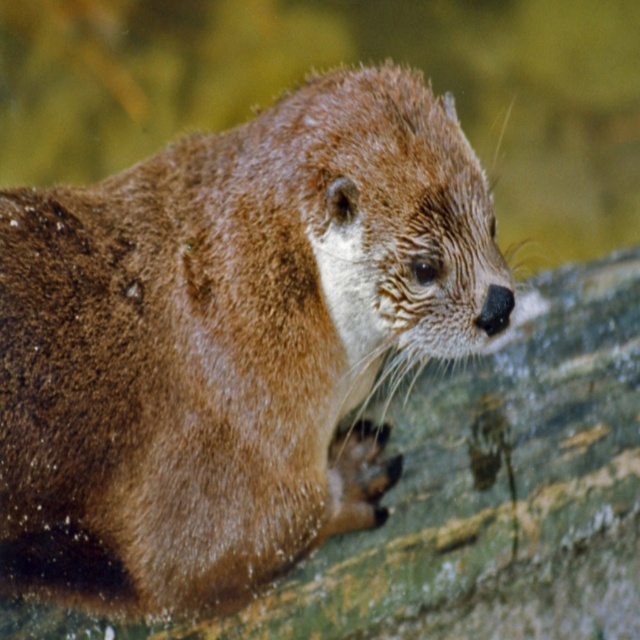Otter: (21, 52, 527, 622)
